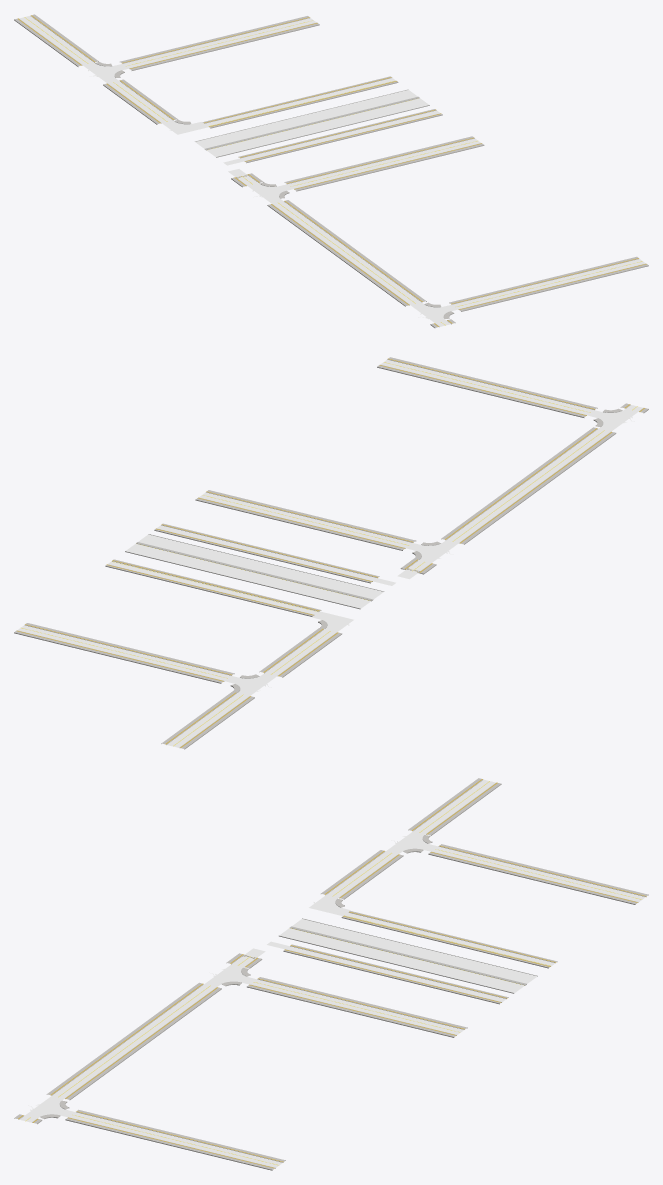
File: roads_-5_1.gltf
3 views of the same model, one above another, from view 1: azimuth 30°, elevation 25°; view 2: azimuth 150°, elevation 25°; view 3: azimuth 330°, elevation 25° (orthographic). The views are drawn at different scales.
Visible parts, largest first — view 1: roads_-5_1_SH_wet_asphalt, roads_-5_1_SH_sidewalk, roads_-5_1_SH_kerb, roads_-5_1_Road_Tactile_Strip, roads_-5_1_SH_road_marking_white, roads_-5_1_SH_road_marking_yellow; view 2: roads_-5_1_SH_wet_asphalt, roads_-5_1_SH_sidewalk, roads_-5_1_SH_kerb, roads_-5_1_Road_Tactile_Strip, roads_-5_1_SH_road_marking_white, roads_-5_1_SH_road_marking_yellow; view 3: roads_-5_1_SH_wet_asphalt, roads_-5_1_SH_sidewalk, roads_-5_1_SH_kerb, roads_-5_1_Road_Tactile_Strip, roads_-5_1_SH_road_marking_white, roads_-5_1_SH_road_marking_yellow.
Part boxes in pixels (box(x1,y1,x2,y2)): roads_-5_1_SH_wet_asphalt: box(19, 16, 645, 326); roads_-5_1_SH_sidewalk: box(14, 14, 648, 327); roads_-5_1_SH_kerb: box(18, 15, 645, 326); roads_-5_1_Road_Tactile_Strip: box(17, 15, 646, 326); roads_-5_1_SH_road_marking_white: box(19, 16, 639, 326); roads_-5_1_SH_road_marking_yellow: box(24, 17, 642, 325); roads_-5_1_SH_wet_asphalt: box(18, 360, 642, 747); roads_-5_1_SH_sidewalk: box(14, 357, 648, 749); roads_-5_1_SH_kerb: box(17, 359, 643, 747); roads_-5_1_Road_Tactile_Strip: box(16, 358, 644, 747); roads_-5_1_SH_road_marking_white: box(24, 359, 642, 747); roads_-5_1_SH_road_marking_yellow: box(21, 362, 637, 746); roads_-5_1_SH_wet_asphalt: box(20, 780, 645, 1167); roads_-5_1_SH_sidewalk: box(14, 778, 648, 1170); roads_-5_1_SH_kerb: box(18, 779, 645, 1168); roads_-5_1_Road_Tactile_Strip: box(18, 779, 646, 1168); roads_-5_1_SH_road_marking_white: box(20, 780, 645, 1162); roads_-5_1_SH_road_marking_yellow: box(25, 781, 641, 1165).
Size of what is drawn, in the model's own units: 159 by 0.506 by 512.
